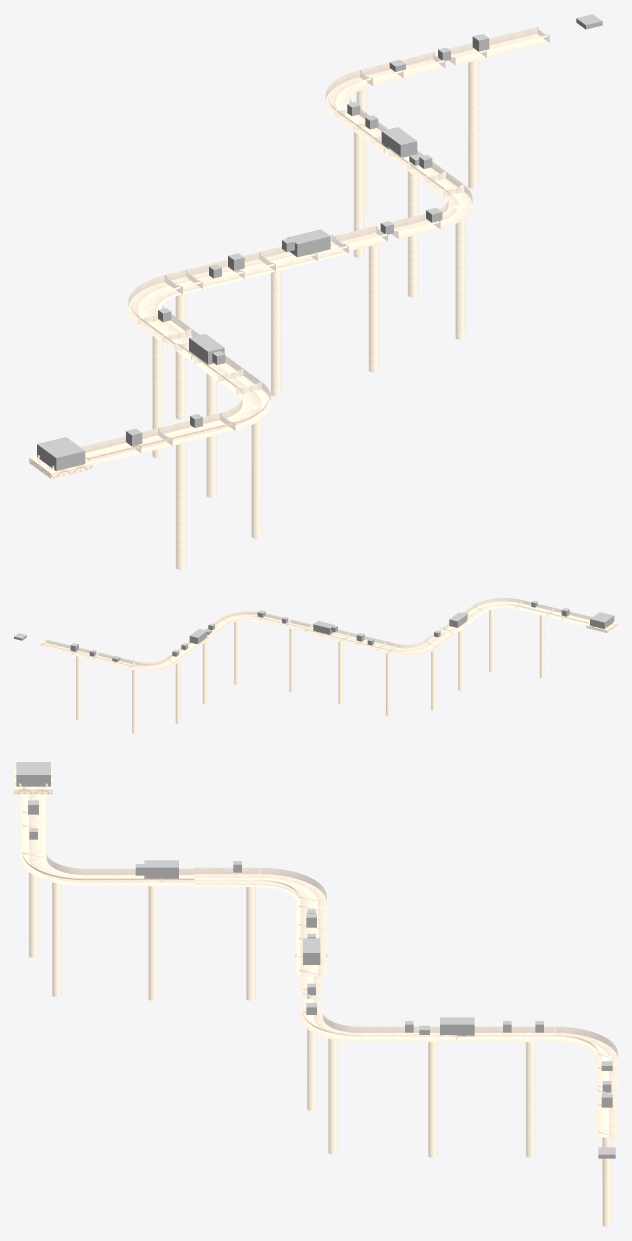
The model's file is level.gltf.
3 renders of one model, top to bottom at view 1: azimuth 30°, elevation 25°; view 2: azimuth 150°, elevation 25°; view 3: azimuth 270°, elevation 25°, orthographic. The views are drawn at different scales.
Visible parts, largest first — view 1: Floor_010, Column_006, Column_001, Floor_004, Column_012, Column_007, Column_008, Column_002, Column_010, Column_009, Floor_003, PS_FourFlames_01 (+14 smaller); view 2: Floor_010, Floor_004, Column_007, Column_012, Column_011, Column_001, Floor_025, Column_002, Column_008, Column_006, Column_010, Column_005 (+14 smaller); view 3: Floor_010, Column_010, Floor_004, Column_009, Floor_025, Column_003, Column_002, Column_008, Column_004, Floor_018, Column_001, PS_FourFlames_01 (+7 smaller).
Part boxes in pixels (left/top/right/bottom): Floor_010: left=128, top=275, right=182, bottom=324; Column_006: left=270, top=260, right=282, bottom=396; Column_001: left=175, top=438, right=186, bottom=569; Floor_004: left=220, top=382, right=270, bottom=430; Column_012: left=468, top=54, right=478, bottom=188; Column_007: left=368, top=241, right=378, bottom=372; Column_008: left=453, top=204, right=466, bottom=339; Column_002: left=250, top=403, right=262, bottom=538; Column_010: left=352, top=122, right=364, bottom=257; Column_009: left=407, top=162, right=418, bottom=297; Floor_003: left=158, top=413, right=234, bottom=445; PS_FourFlames_01: left=37, top=437, right=85, bottom=470; Floor_010: left=388, top=641, right=437, bottom=655; Floor_004: left=473, top=598, right=521, bottom=612; Column_007: left=288, top=624, right=294, bottom=692; Column_012: left=76, top=652, right=81, bottom=720; Column_011: left=132, top=666, right=137, bottom=733; Column_001: left=539, top=610, right=545, bottom=678; Floor_025: left=129, top=658, right=175, bottom=670; Column_002: left=489, top=606, right=494, bottom=672; Column_008: left=234, top=619, right=239, bottom=684; Column_006: left=337, top=637, right=343, bottom=704; Column_010: left=175, top=656, right=180, bottom=723; Column_005: left=385, top=648, right=390, bottom=715; Floor_010: left=259, top=867, right=326, bottom=902; Column_010: left=524, top=1036, right=536, bottom=1157; Floor_004: left=20, top=852, right=86, bottom=886; Column_009: left=426, top=1036, right=438, bottom=1157; Floor_025: left=554, top=1026, right=617, bottom=1059; Column_003: left=147, top=880, right=159, bottom=1000; Column_002: left=50, top=874, right=62, bottom=996; Column_008: left=328, top=1035, right=338, bottom=1154; Column_004: left=246, top=878, right=255, bottom=1000; Floor_018: left=301, top=1011, right=359, bottom=1042; Column_001: left=27, top=837, right=39, bottom=957; PS_FourFlames_01: left=16, top=762, right=50, bottom=786.
Size of the model in its own units: 420 by 69 by 278.
Materials: 6 (6 with a texture image).
